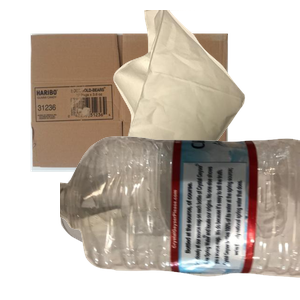cardboard: (28, 31, 249, 195)
glass: (58, 170, 202, 300)
plastic: (60, 134, 300, 300)
trash: (111, 10, 300, 190)
